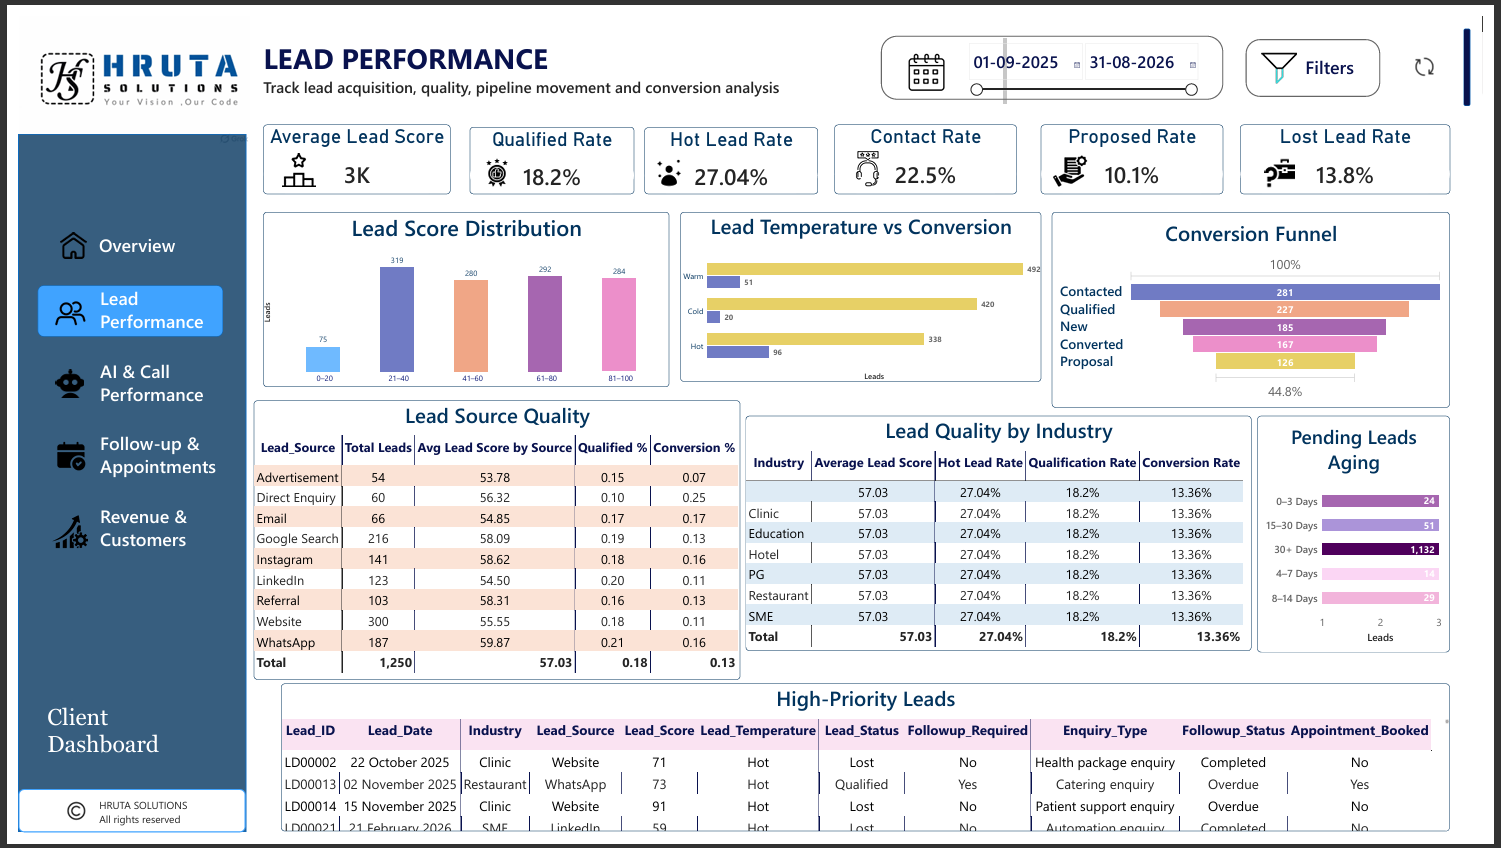

What the dashboard file says about the page in this screenshot:
{"tool":"powerbi","page":{"name":"LEAD PERFORMANCE","canvas":[3050,1700],"ordinal":1},"visuals":[{"type":"image","box":[0,0,486,270],"z":0},{"type":"shape","box":[0,245,474,1454],"z":1000},{"type":"textbox","box":[59.8,1432.8,364.6,145.3],"z":2000},{"type":"shape","box":[3010.7,25,14.3,160.7],"z":3000},{"type":"shape","box":[40,560,385.6,106.7],"z":4000},{"type":"textbox","box":[39.9,450.1,373.2,82.6],"z":5000},{"type":"image","box":[71.2,450.1,86.7,55],"z":6000},{"type":"textbox","box":[170,560,288.3,123.3],"z":7000},{"type":"textbox","box":[170,713.3,243.3,106.7],"z":8000},{"type":"textbox","box":[170,863.3,288.3,103.3],"z":9000},{"type":"textbox","box":[170,1015,255,111.7],"z":10000},{"type":"shape","box":[0,1610,473.3,90],"z":11000},{"type":"textbox","box":[126,1629,299,71],"z":12000},{"type":"image","box":[71.7,881.7,75,68.3],"z":13000},{"type":"image","box":[60,1035,95,76.7],"z":14000},{"type":"image","box":[78.3,731.7,60,68.3],"z":15000},{"type":"image","box":[73.3,576.7,70,90],"z":16000},{"type":"image","box":[78,1629,85,53.3],"z":17000},{"type":"textbox","box":[510,46,1550,138],"z":18000},{"type":"shape","box":[1796.7,40,713.3,133.3],"z":19000},{"type":"shape","box":[2556.7,46.7,280,120],"z":20000},{"type":"textbox","box":[2626.7,80,210,83.3],"z":21000},{"type":"image","box":[2580,70,95,75],"z":22000},{"type":"cardVisual","title":"Average Lead Score","fields":{"Data":["AI_Interactions.AI  Interactions"]},"box":[510,225,390,145],"z":23000},{"type":"cardVisual","title":"Qualified Rate","fields":{"Data":["FunnelStages.Qualification Rate"]},"box":[940,230,343.3,140],"z":24000},{"type":"cardVisual","title":"Hot Lead Rate","fields":{"Data":["AI_Interactions.Hot Lead Rate"]},"box":[1304.3,231.4,361.4,138.6],"z":25000},{"type":"cardVisual","title":"Contact  Rate","fields":{"Data":["AI_Interactions.Contact Rate"]},"box":[1700,225,380,145],"z":26000},{"type":"cardVisual","title":"Proposed Rate","fields":{"Data":["AI_Interactions.Proposal Rate"]},"box":[2130,225,380,145],"z":27000},{"type":"cardVisual","title":"Lost Lead Rate","fields":{"Data":["AI_Interactions.Lost Lead Rate"]},"box":[2545,225,438.3,145],"z":28000},{"type":"clusteredBarChart","title":"Lead Temperature vs Conversion","fields":{"Category":["Leads.Lead_Temperature"],"Y":["Leads.Total Leads","AI_Interactions.Converted Leads"]},"box":[1378.7,407.3,752,353.2],"z":29000},{"type":"clusteredColumnChart","title":"Lead Score Distribution","fields":{"Category":["Leads.Lead Score Band"],"Y":["Leads.Total Leads"]},"box":[509.9,407.3,846,364.6],"z":30000},{"type":"funnel","title":"Conversion Funnel","fields":{"Category":["PipelineStages.Stage"],"Y":["AI_Interactions.Pipeline Value"]},"box":[2153.5,407.3,828.9,407.3],"z":31000},{"type":"slicer","fields":{"Values":["Leads.Lead_Date"]},"box":[1973.3,50,486.7,156.7],"z":32000},{"type":"actionButton","box":[2876.7,56.7,106.7,96.7],"z":33000},{"type":"actionButton","box":[2580,70,95,75],"z":34000},{"type":"image","box":[1846,72,92,88],"z":35000},{"type":"clusteredBarChart","title":"Pending Leads Aging","fields":{"Category":["Leads.Pending Age Band"],"Y":["Leads.Total Leads"]},"box":[2580.8,831.8,401.6,492.8],"z":36000},{"type":"pivotTable","title":"Lead Source Quality","fields":{"Rows":["Leads.Lead_Source"],"Values":["Leads.Total Leads","AI_Interactions.Avg Lead Score by Source","AI_Interactions.Qualified %","AI_Interactions.Conversion %"]},"box":[489.9,800.4,1014.1,581.1],"z":37000},{"type":"pivotTable","title":"Lead Quality by Industry","fields":{"Rows":["Clients.Industry"],"Values":["AI_Interactions.Average Lead Score","AI_Interactions.Hot Lead Rate","FunnelStages.Qualification Rate","Leads.Conversion Rate"]},"box":[1515.4,831.8,1054,489.9],"z":38000},{"type":"image","box":[2592,294,74,64],"z":40000},{"type":"image","box":[2154,282,74.1,79.8],"z":41000},{"type":"image","box":[1722,278,94,78],"z":42000},{"type":"image","box":[1304.3,297.1,102.5,57],"z":43000},{"type":"image","box":[960,292.9,74.3,64.3],"z":44000},{"type":"image","box":[548.6,284.3,70,72.9],"z":45000},{"type":"actionButton","box":[38,714,388,118],"z":46000},{"type":"actionButton","box":[34.2,857.4,413,122.5],"z":47000},{"type":"actionButton","box":[39.9,1014.1,373.2,111.1],"z":48000},{"type":"actionButton","box":[28.5,415.9,424.4,116.8],"z":49000},{"type":"tableEx","title":"High-Priority Leads","fields":{"Values":["Leads.Lead_ID","Leads.Lead_Date","Leads.Industry","Leads.Lead_Source","Leads.Lead_Score","Leads.Lead_Temperature","Leads.Lead_Status","Leads.Followup_Required","Leads.Enquiry_Type","Leads.Followup_Status","Leads.Appointment_Booked"]},"box":[546.9,1390.1,2435.5,307.6],"z":49001}]}

Visuals, with their boxes in screenshot pixels (x1, y1, x2, y2), scaled from the page's 3050x1700 canvas onto the 1501x848 screenshot:
image: <region>0, 0, 239, 135</region>
shape: <region>0, 122, 233, 847</region>
textbox: <region>29, 715, 209, 787</region>
shape: <region>1482, 12, 1489, 93</region>
shape: <region>20, 279, 209, 333</region>
textbox: <region>20, 225, 203, 266</region>
image: <region>35, 225, 78, 252</region>
textbox: <region>84, 279, 226, 341</region>
textbox: <region>84, 356, 203, 409</region>
textbox: <region>84, 431, 226, 482</region>
textbox: <region>84, 506, 209, 562</region>
shape: <region>0, 803, 233, 847</region>
textbox: <region>62, 813, 209, 847</region>
image: <region>35, 440, 72, 474</region>
image: <region>30, 516, 76, 555</region>
image: <region>39, 365, 68, 399</region>
image: <region>36, 288, 71, 333</region>
image: <region>38, 813, 80, 839</region>
textbox: <region>251, 23, 1014, 92</region>
shape: <region>884, 20, 1235, 86</region>
shape: <region>1258, 23, 1396, 83</region>
textbox: <region>1293, 40, 1396, 81</region>
image: <region>1270, 35, 1316, 72</region>
"Average Lead Score" cardVisual: <region>251, 112, 443, 185</region>
"Qualified Rate" cardVisual: <region>463, 115, 632, 185</region>
"Hot Lead Rate" cardVisual: <region>642, 115, 820, 185</region>
"Contact  Rate" cardVisual: <region>837, 112, 1024, 185</region>
"Proposed Rate" cardVisual: <region>1048, 112, 1235, 185</region>
"Lost Lead Rate" cardVisual: <region>1252, 112, 1468, 185</region>
"Lead Temperature vs Conversion" clusteredBarChart: <region>679, 203, 1049, 379</region>
"Lead Score Distribution" clusteredColumnChart: <region>251, 203, 667, 385</region>
"Conversion Funnel" funnel: <region>1060, 203, 1468, 406</region>
slicer - Leads.Lead_Date: <region>971, 25, 1211, 103</region>
actionButton: <region>1416, 28, 1468, 77</region>
actionButton: <region>1270, 35, 1316, 72</region>
image: <region>908, 36, 954, 80</region>
"Pending Leads Aging" clusteredBarChart: <region>1270, 415, 1468, 661</region>
"Lead Source Quality" pivotTable: <region>241, 399, 740, 689</region>
"Lead Quality by Industry" pivotTable: <region>746, 415, 1264, 659</region>
image: <region>1276, 147, 1312, 179</region>
image: <region>1060, 141, 1097, 180</region>
image: <region>847, 139, 894, 178</region>
image: <region>642, 148, 692, 177</region>
image: <region>472, 146, 509, 178</region>
image: <region>270, 142, 304, 178</region>
actionButton: <region>19, 356, 210, 415</region>
actionButton: <region>17, 428, 220, 489</region>
actionButton: <region>20, 506, 203, 561</region>
actionButton: <region>14, 207, 223, 266</region>
"High-Priority Leads" tableEx: <region>269, 693, 1468, 847</region>
